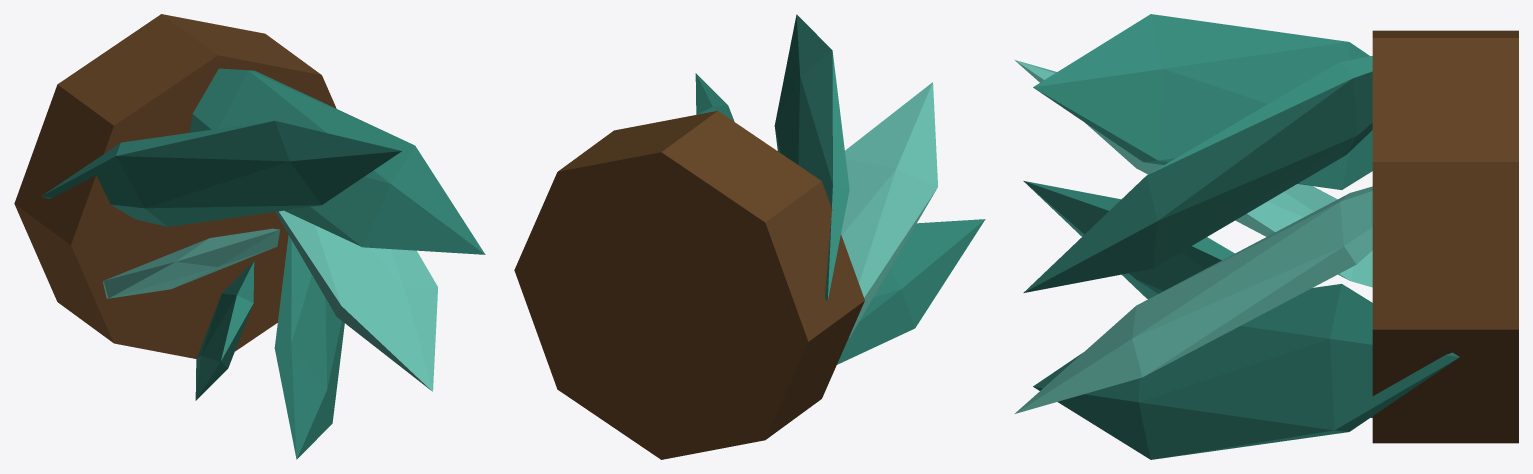
Rendered from 2_sprouting.obj.
3 renders of one model, left to right at view 1: azimuth 30°, elevation 25°; view 2: azimuth 150°, elevation 25°; view 3: azimuth 270°, elevation 25°, orthographic. The views are drawn at different scales.
Parts seen in each view (by area): view 1: marrentill_2_sprouting; view 2: marrentill_2_sprouting; view 3: marrentill_2_sprouting.
Part boxes in pixels (<box>): marrentill_2_sprouting: <box>14,14,485,459</box>; marrentill_2_sprouting: <box>514,14,985,459</box>; marrentill_2_sprouting: <box>1015,14,1518,459</box>.
Size of the model in its own units: 0.12 by 0.1235 by 0.138.
